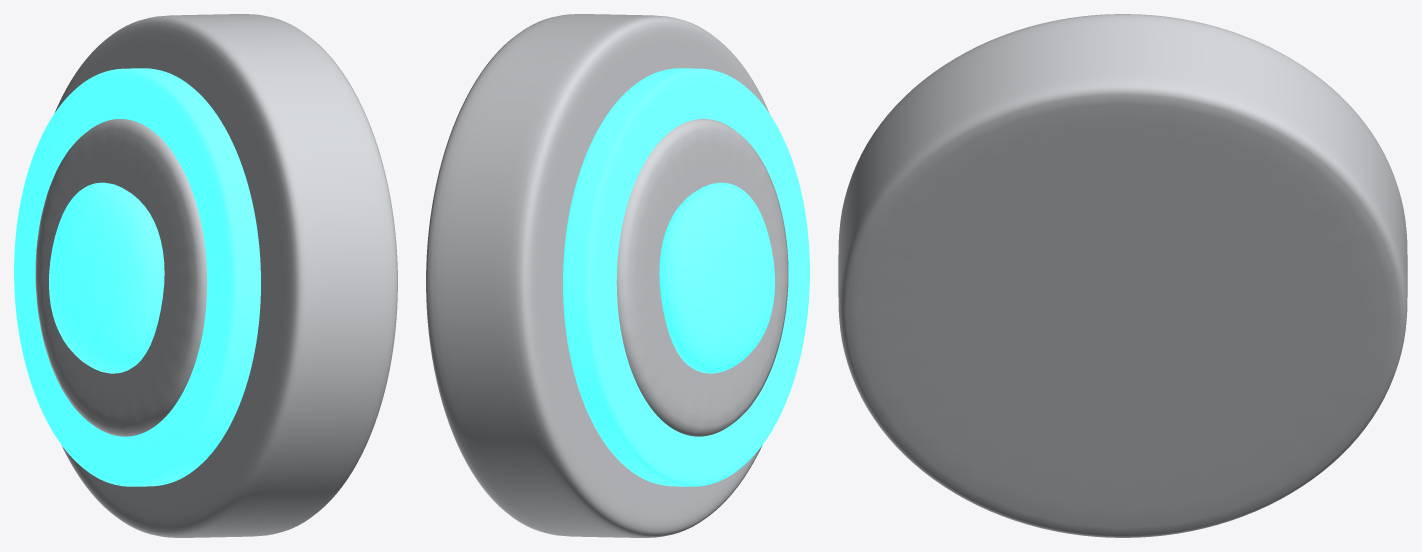
The model's file is shield_L.glb.
3 renders of one model, left to right at view 1: azimuth 30°, elevation 25°; view 2: azimuth 150°, elevation 25°; view 3: azimuth 270°, elevation 25°, orthographic. The views are drawn at different scales.
Visible parts, largest first — view 1: ACC_shield_L_base, ACC_shield_L_ring, ACC_shield_L_core; view 2: ACC_shield_L_base, ACC_shield_L_ring, ACC_shield_L_core; view 3: ACC_shield_L_base.
Boxes of the visible parts, x1,y1,x2,y2 form: ACC_shield_L_base: (35,14,397,537); ACC_shield_L_ring: (14,68,260,486); ACC_shield_L_core: (49,182,164,373); ACC_shield_L_base: (426,14,788,537); ACC_shield_L_ring: (563,68,809,486); ACC_shield_L_core: (659,182,774,373); ACC_shield_L_base: (838,14,1407,537).
Size of the model in its own units: 0.1535 by 0.3028 by 0.2981.
